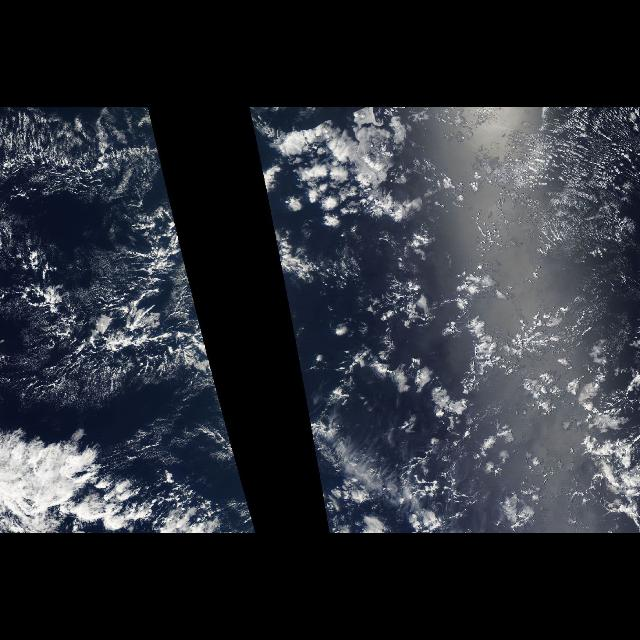Gravel: (0, 214, 210, 410)
